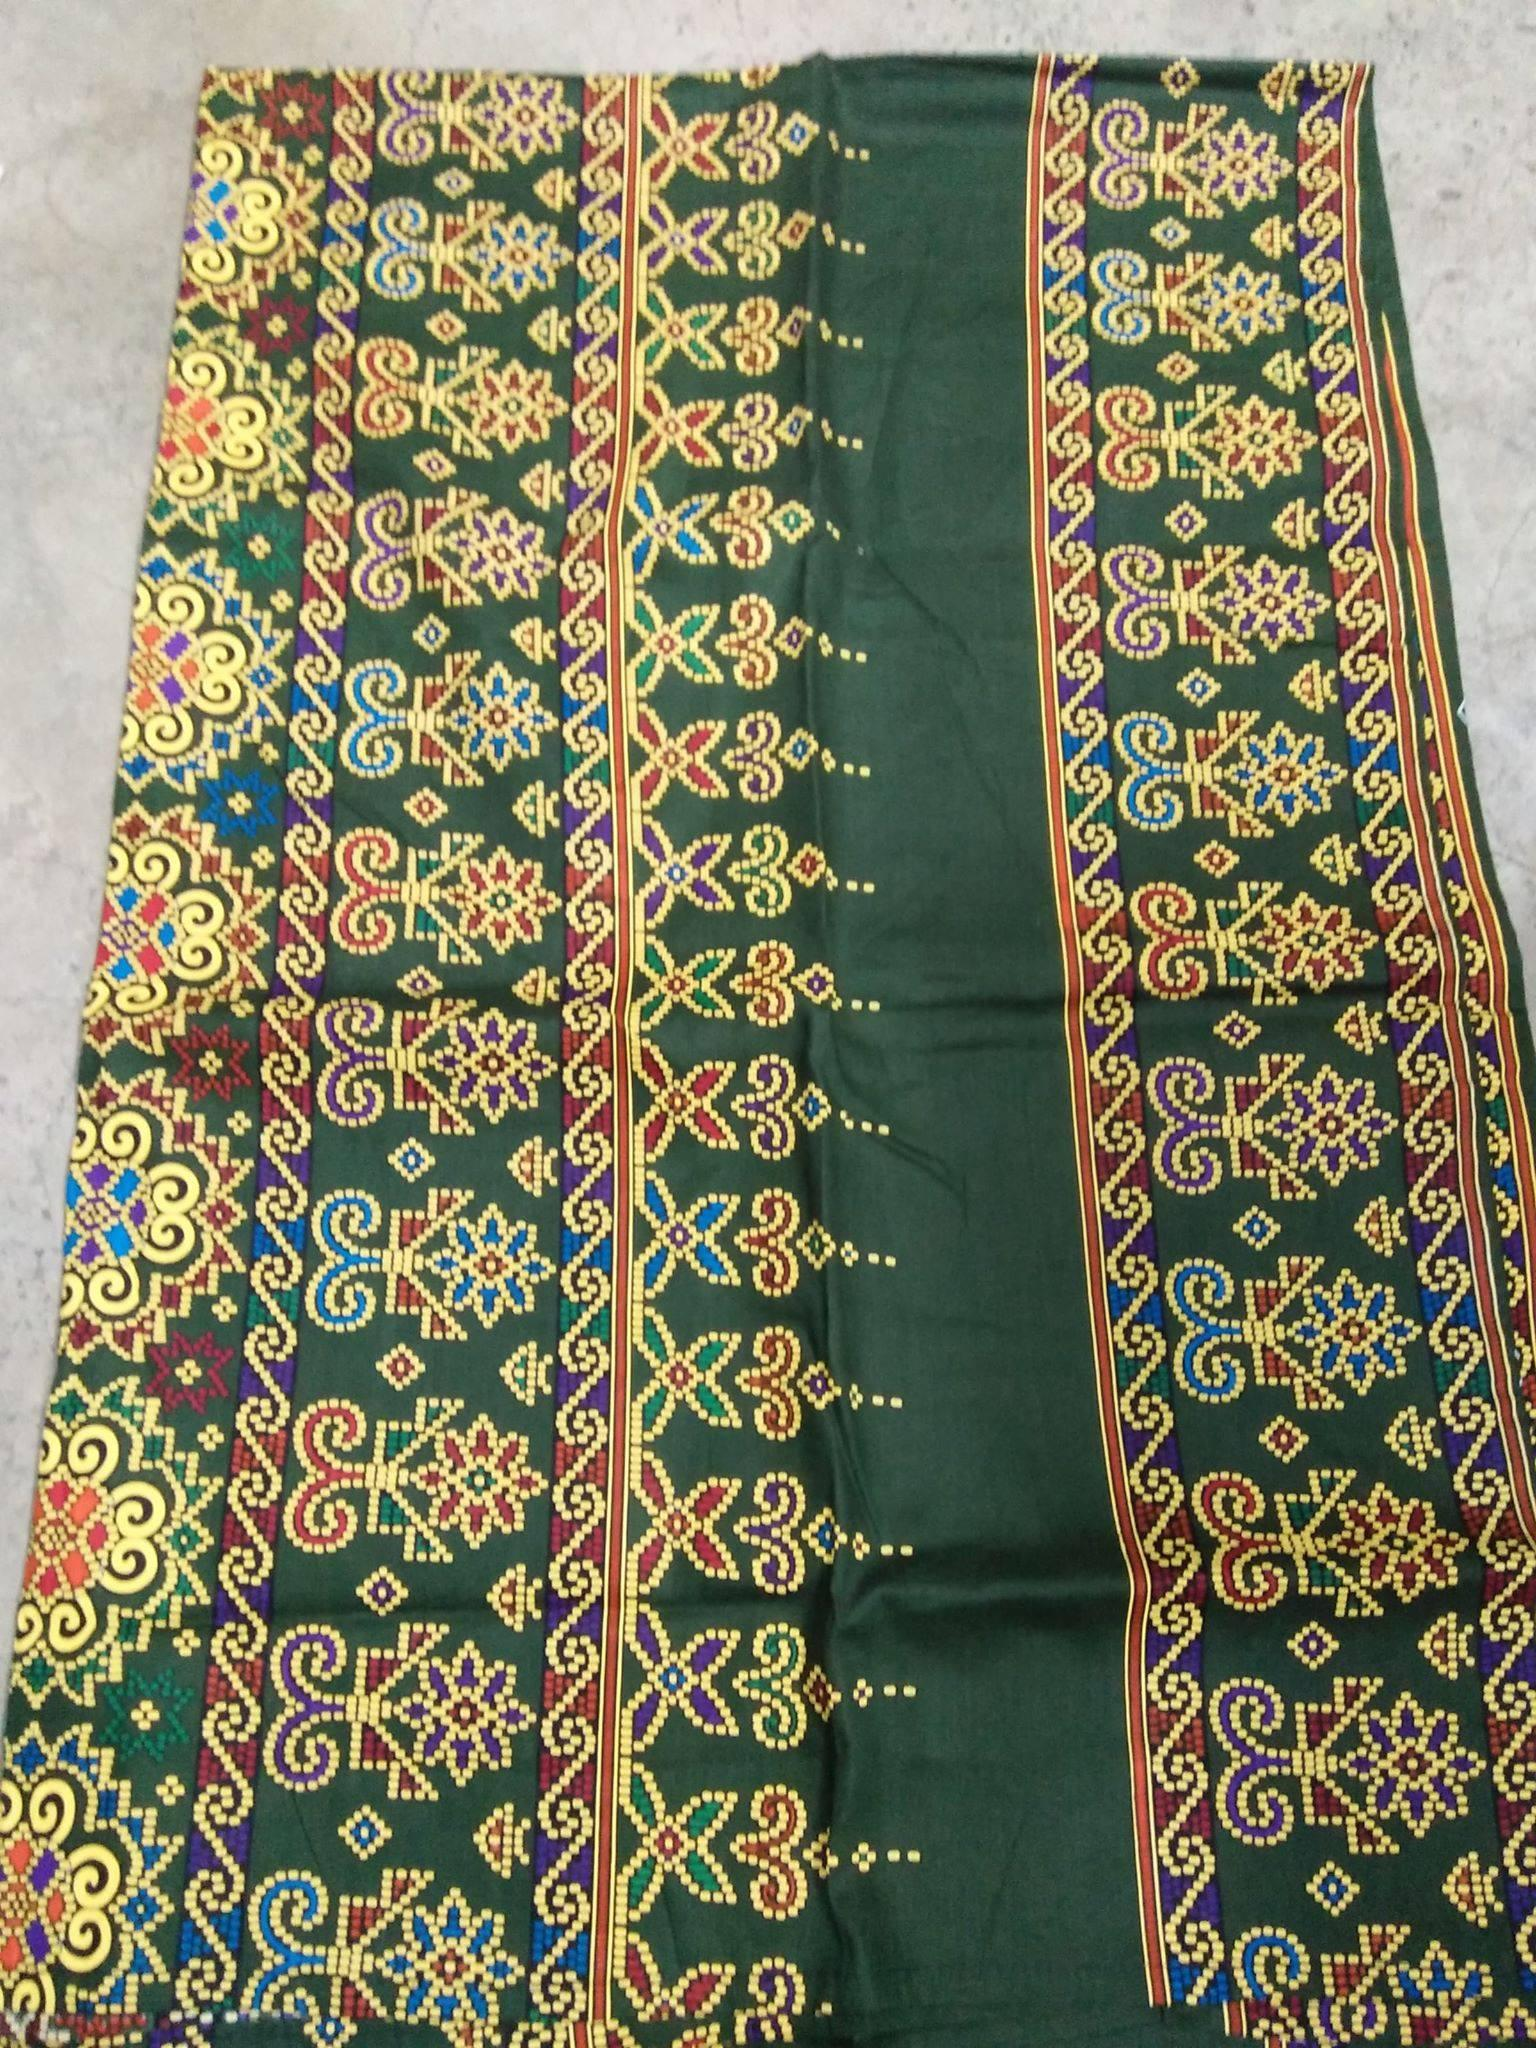malong: (0, 6, 1536, 2048)
